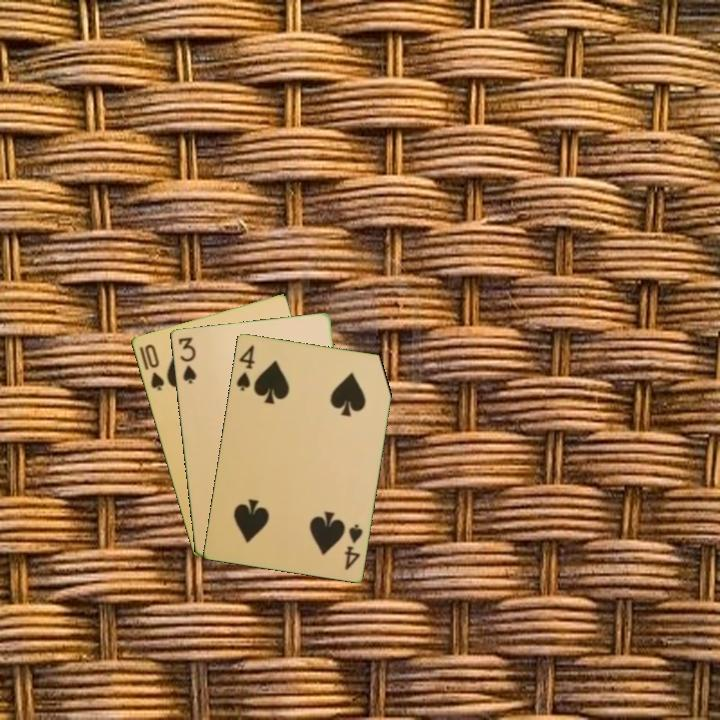10s: (141, 340, 167, 393)
3s: (175, 333, 199, 386)
4s: (233, 341, 257, 393), (341, 521, 365, 572)
